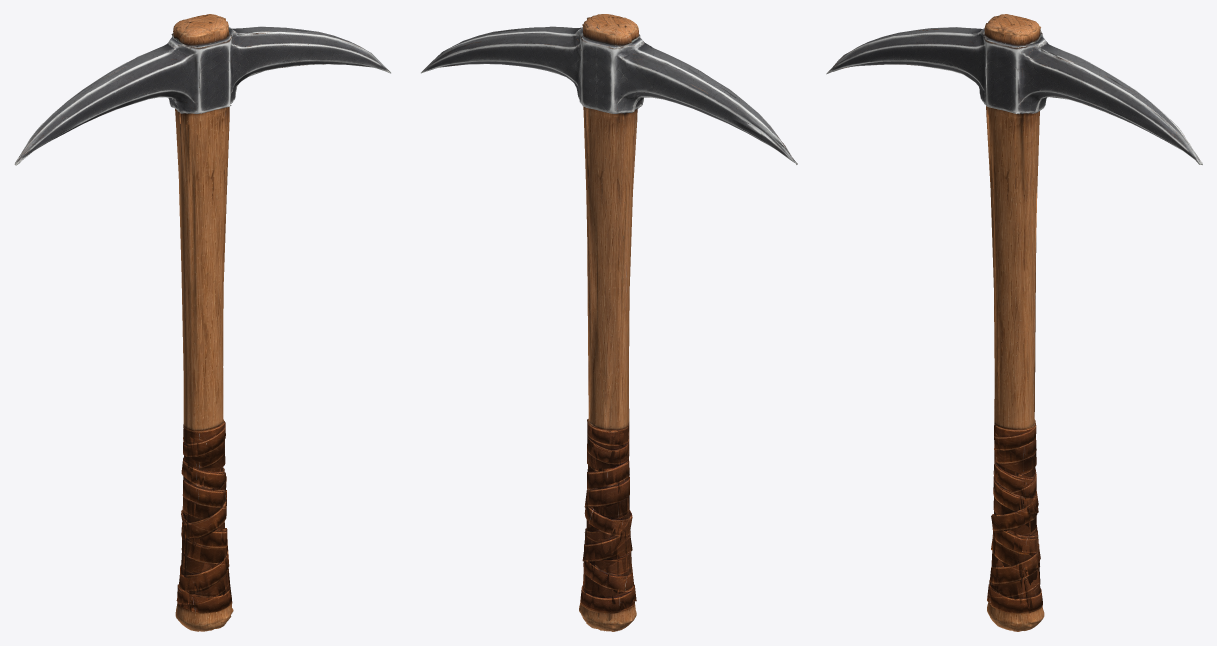
Rendered from Pickaxe2.glb.
The picture shows the model from 3 angles, left to right: view 1: azimuth 30°, elevation 25°; view 2: azimuth 150°, elevation 25°; view 3: azimuth 330°, elevation 25°; orthographic projection.
Bounding box in the file's own units: 0.6167 × 0.9507 × 0.0723.
1 material, 1 textured.
